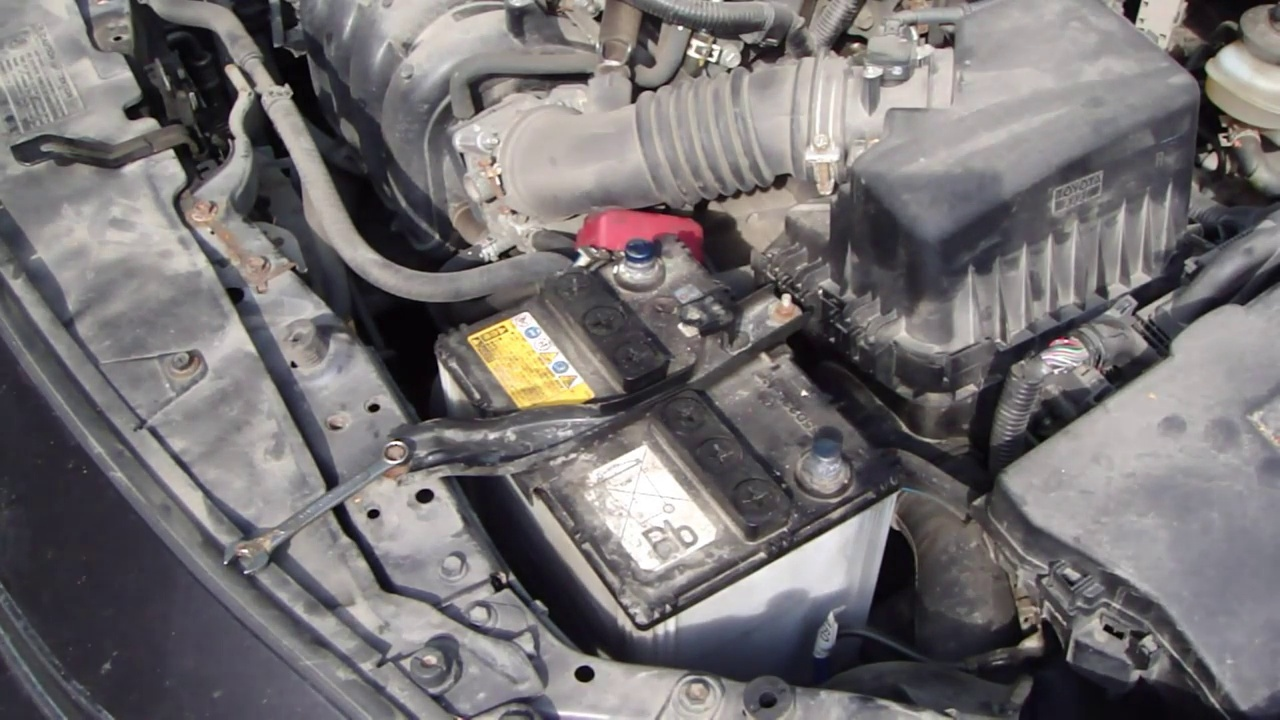battery: (446, 244, 885, 590)
neg_disconnected: (776, 406, 882, 530)
pos_disconnected: (558, 197, 703, 309)
